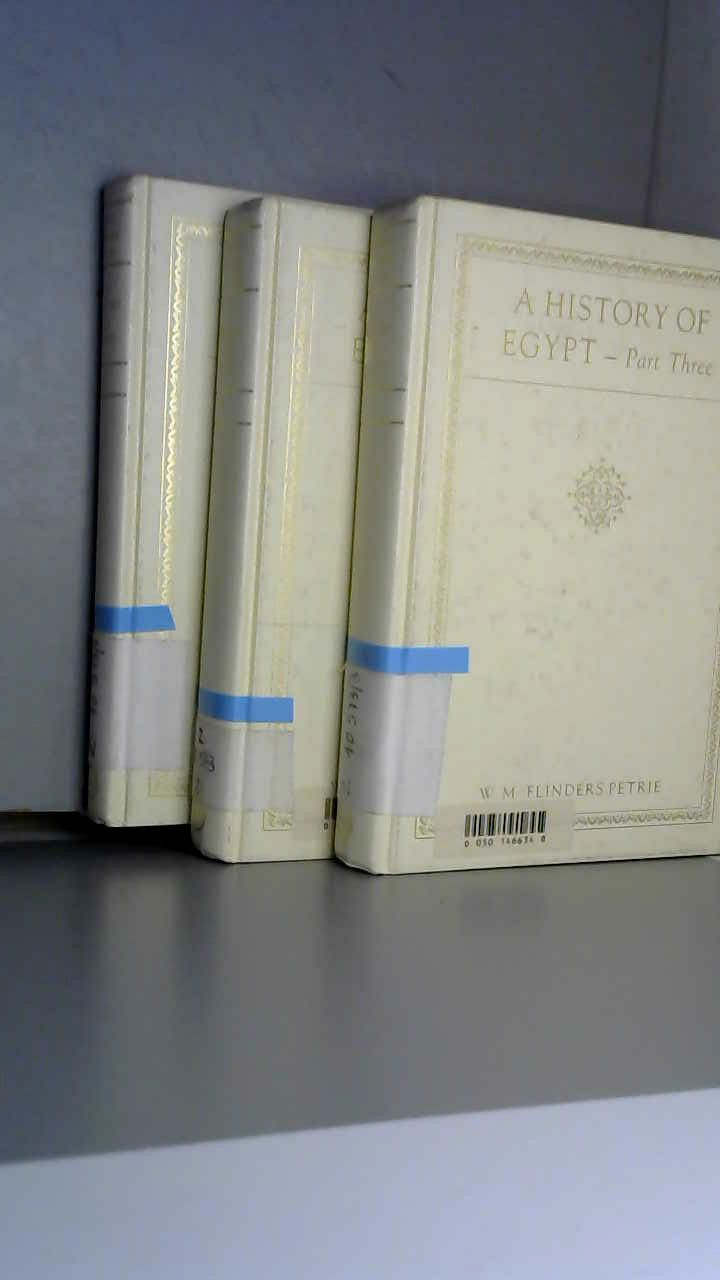book: (45, 153, 720, 911)
